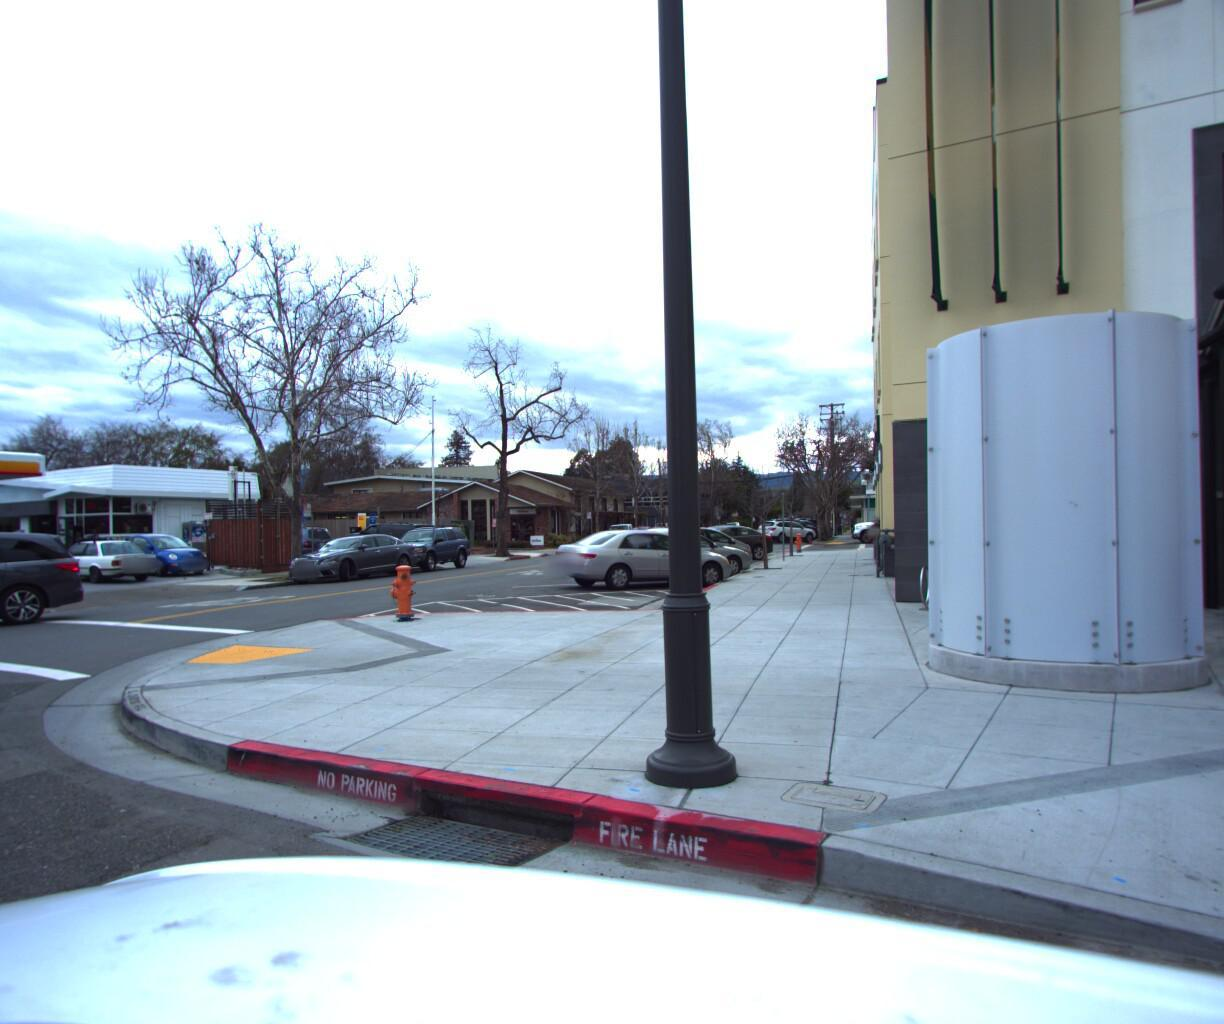car: (543, 521, 731, 591), (586, 519, 755, 578), (274, 526, 421, 582), (30, 528, 164, 580), (638, 519, 759, 568), (369, 518, 476, 573), (94, 526, 215, 571), (658, 518, 778, 558), (228, 518, 341, 560), (849, 506, 950, 539), (39, 503, 114, 527), (752, 513, 817, 538)
